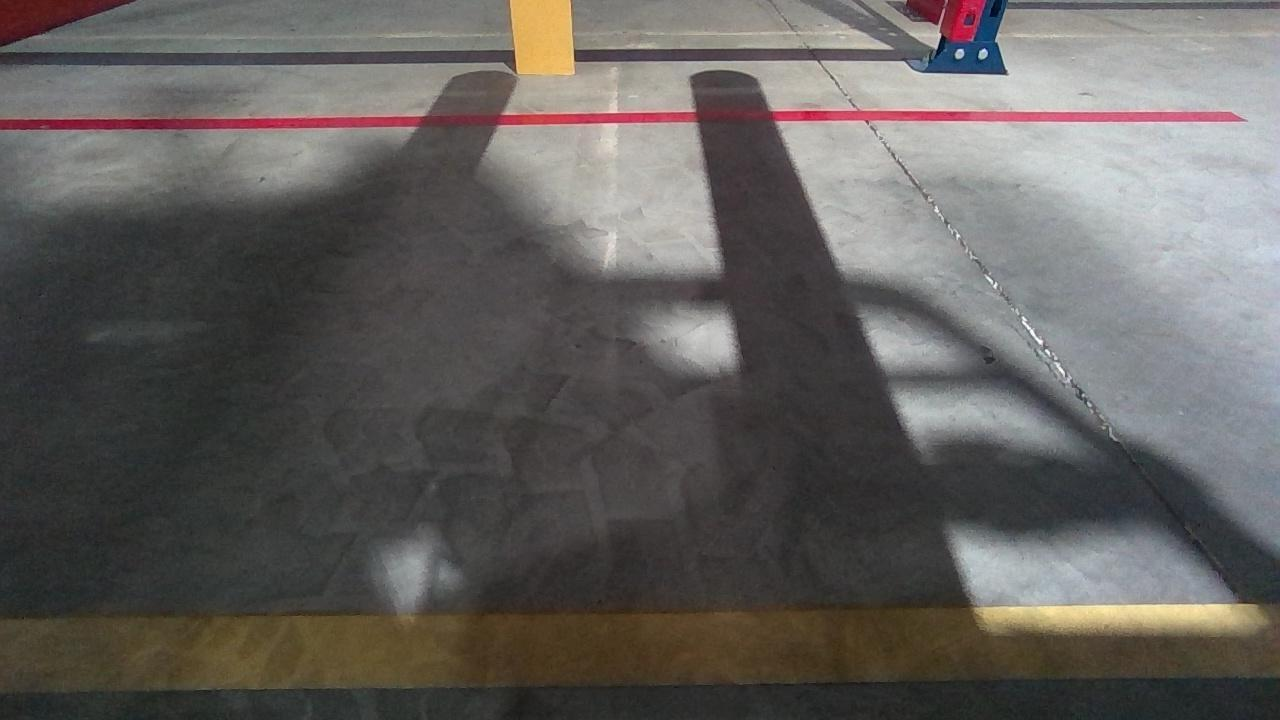orange_strip: (510, 0, 574, 75)
red_line: (0, 106, 1238, 138)
yellow_line: (0, 601, 1279, 694)
